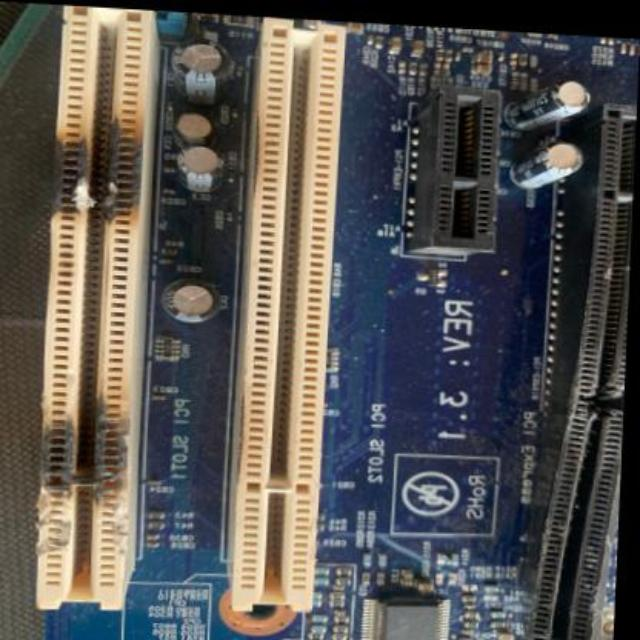PCB: (23, 1, 627, 640)
